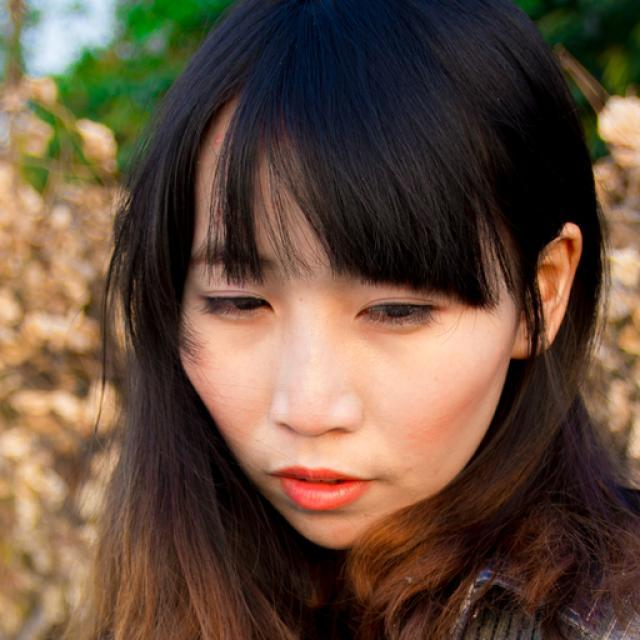sad: (172, 156, 512, 550)
